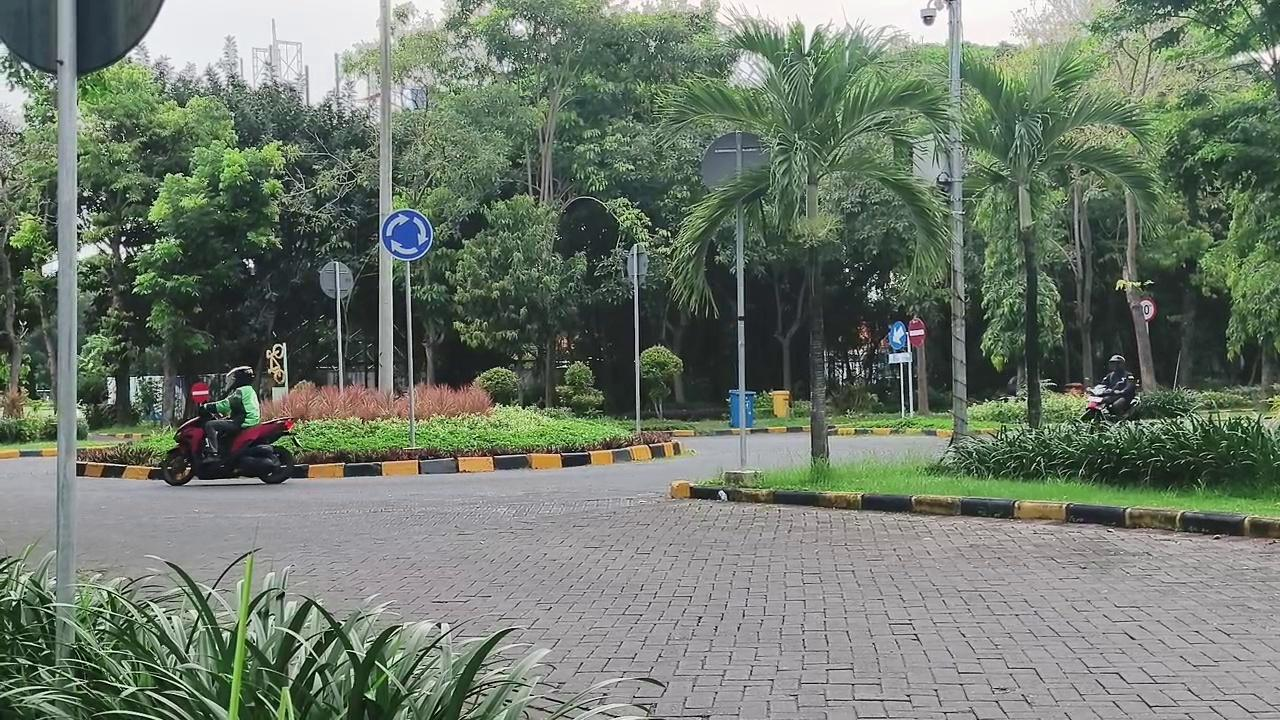Helmet: (205, 366, 260, 455), (1102, 354, 1136, 414)
Motor: (162, 406, 294, 484), (1080, 385, 1139, 422)
